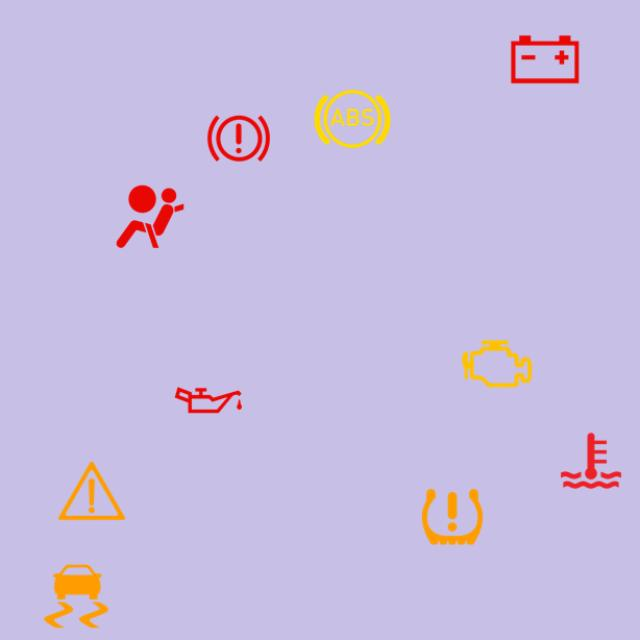Anti Lock Braking System: (311, 77, 394, 161)
Braking System Issue: (197, 97, 280, 180)
Charging System Issue: (503, 18, 587, 101)
Check Engine: (455, 322, 539, 406)
Electronic Stability Problem -ESP-: (34, 554, 118, 638)
Engine Overheating Warning Light: (549, 419, 633, 502)
Low Engine Oil Warning Light: (167, 359, 250, 442)
Low Tire Pressure Warning Light: (411, 475, 494, 559)
Master warning light: (50, 449, 133, 533)
SRS-Airbag: (108, 175, 192, 259)
